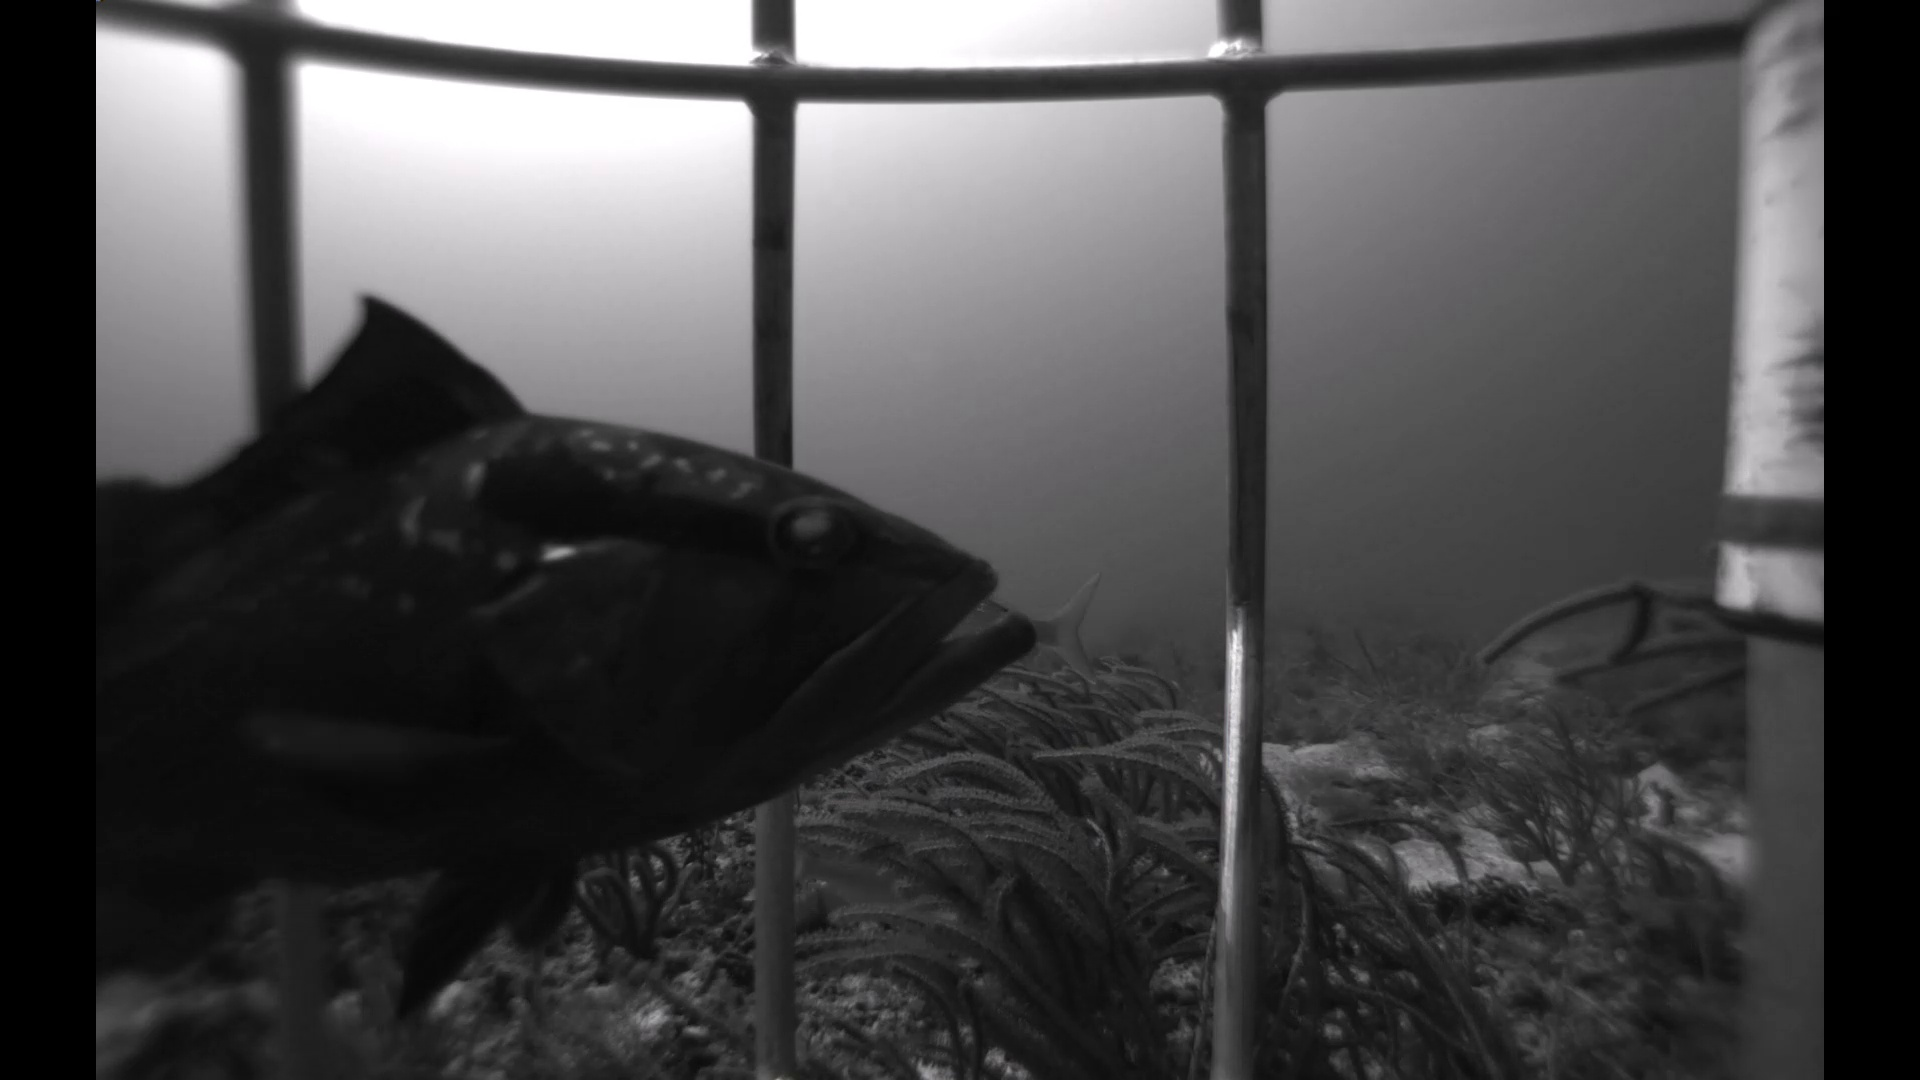CALAMUSNODOSUS-170210608: (737, 839, 911, 942)
EPINEPHELUSMORIO-170021211: (108, 266, 1062, 1044)
PAGRUSPAGRUS-170212302: (928, 545, 1113, 712)
